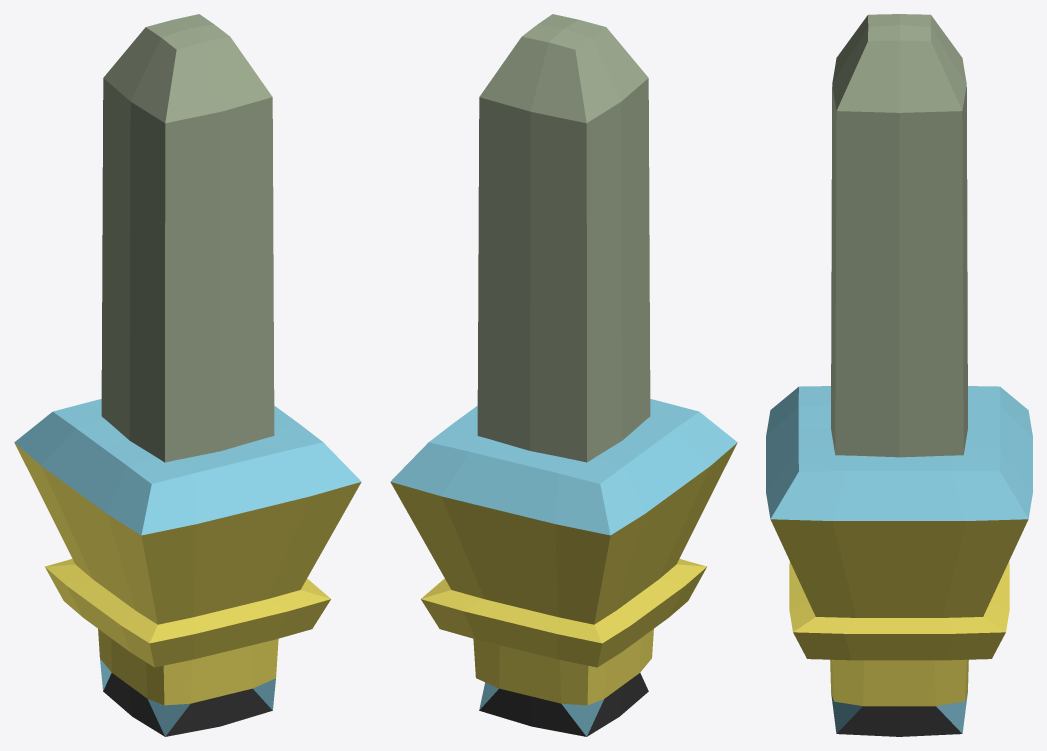
Rendered from pillar.fbx.
3 renders of one model, left to right at view 1: azimuth 30°, elevation 25°; view 2: azimuth 150°, elevation 25°; view 3: azimuth 270°, elevation 25°, orthographic.
Visible parts, largest first — view 1: Cube; view 2: Cube; view 3: Cube.
Boxes of the visible parts, x1=… form: Cube: x1=14, y1=14, x2=361, y2=736; Cube: x1=390, y1=14, x2=737, y2=736; Cube: x1=766, y1=14, x2=1032, y2=736.
Size of the model in its own units: 191 by 543 by 191.
